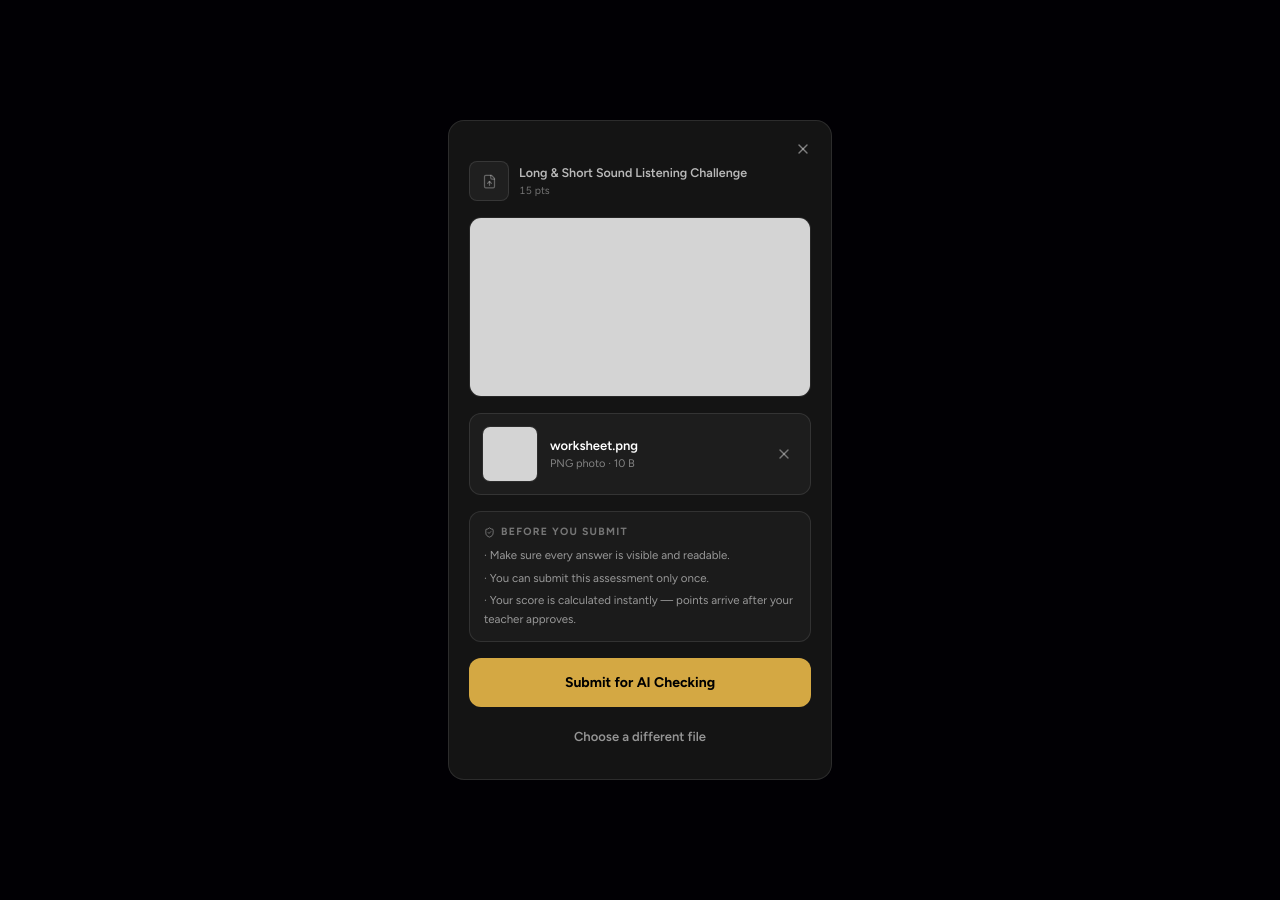
Scenario: while the worksheet is in flight, the staged progress journey is shown (upload → read → check → calculate)
The width and height of the screenshot is (1280, 900).
Earlier steps of the test are not shown.
Later steps or results of the test are not shown.
Click the button with test id "assessment-submit-confirm-button" at (640, 682), box 469,658 -> 811,707
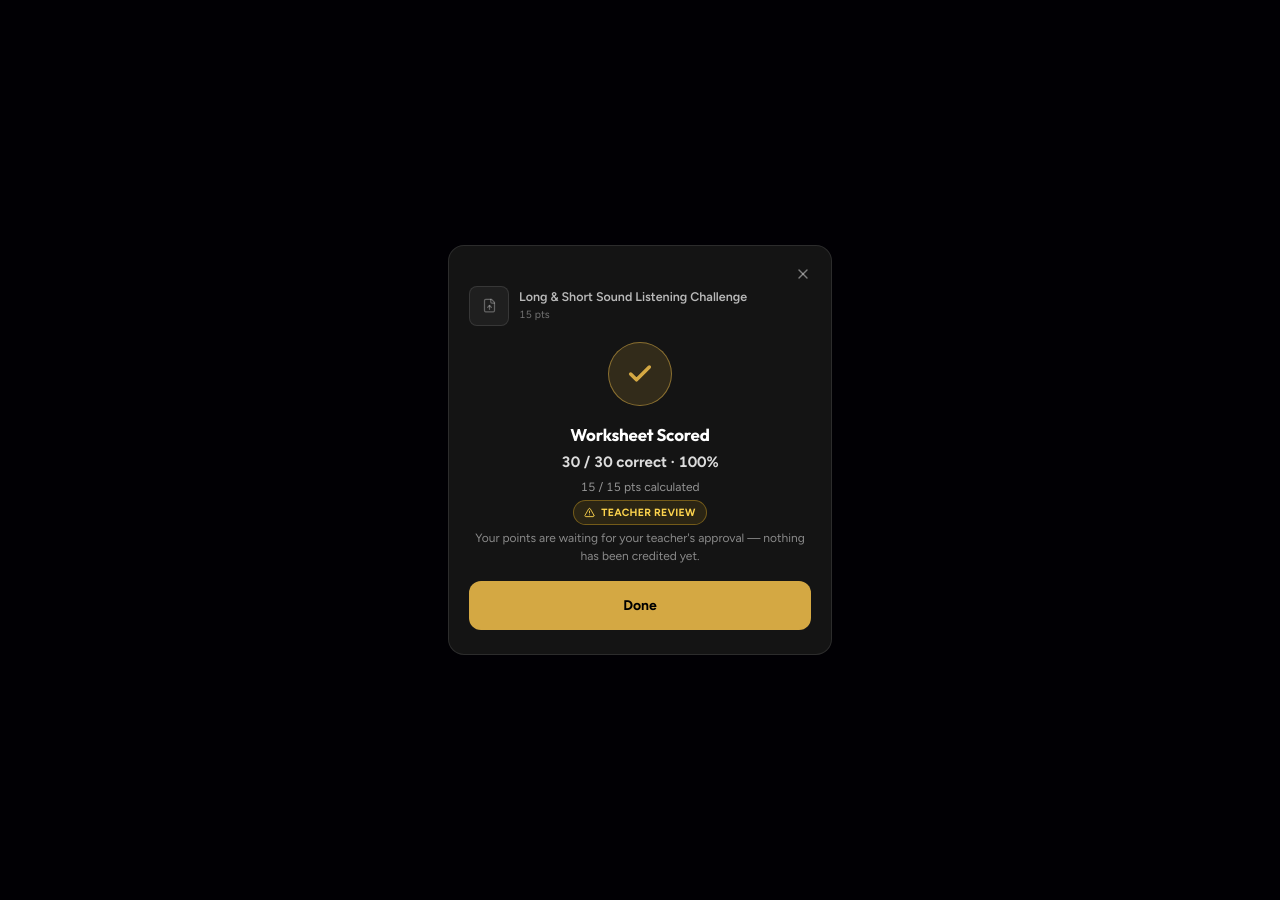
Now the element with test id "assessment-submit-result" is shown, box 469,282 -> 811,634
